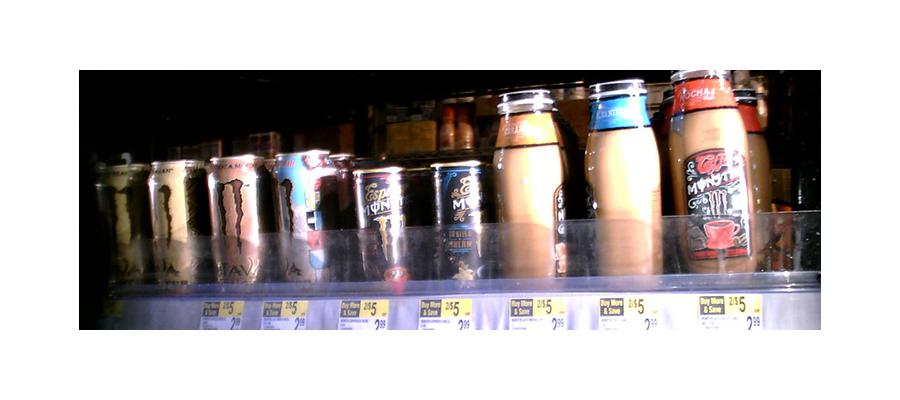bottle: (670, 67, 768, 280), (492, 88, 578, 292), (586, 77, 665, 283), (269, 145, 346, 286), (201, 150, 265, 290), (142, 151, 202, 292), (348, 161, 414, 288), (427, 157, 488, 285), (98, 152, 144, 284)
